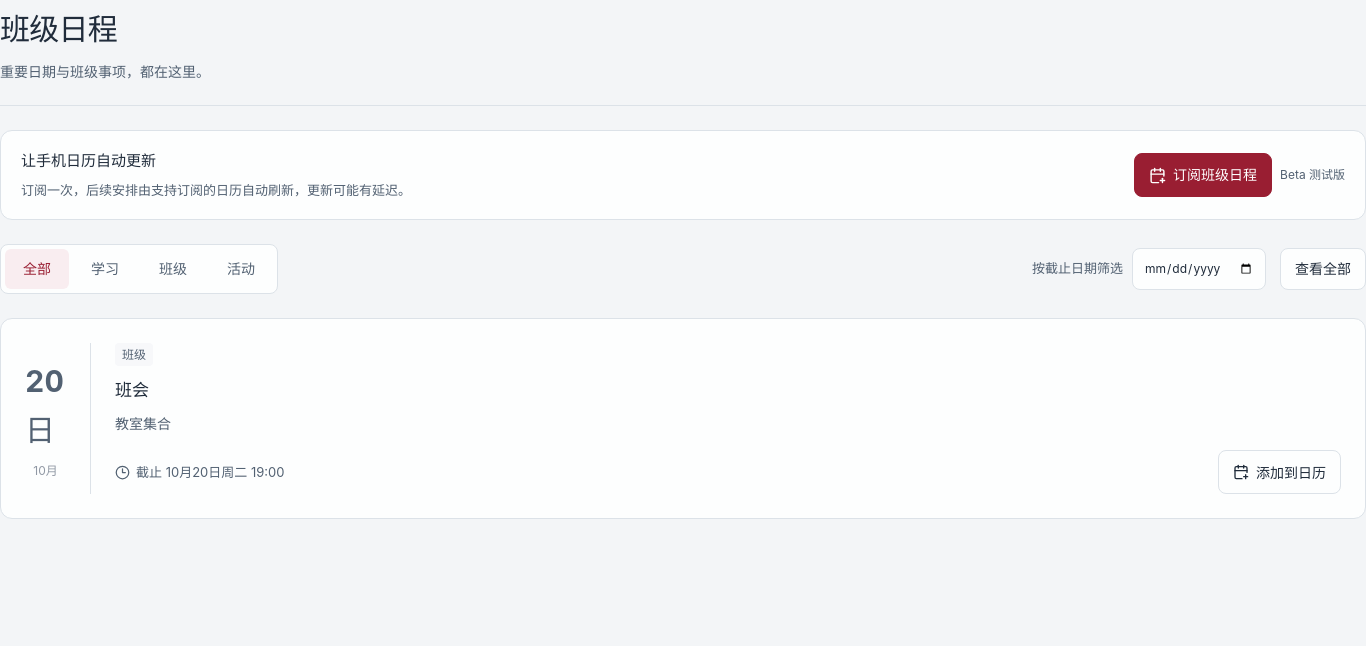
Test: does not offer blocked native launch from WeChat or HarmonyOS and explains browser handoff
The image size is (1366, 646).
Click the button "添加到日历" at (1280, 472), box x1=1218 y1=450 x2=1341 y2=494
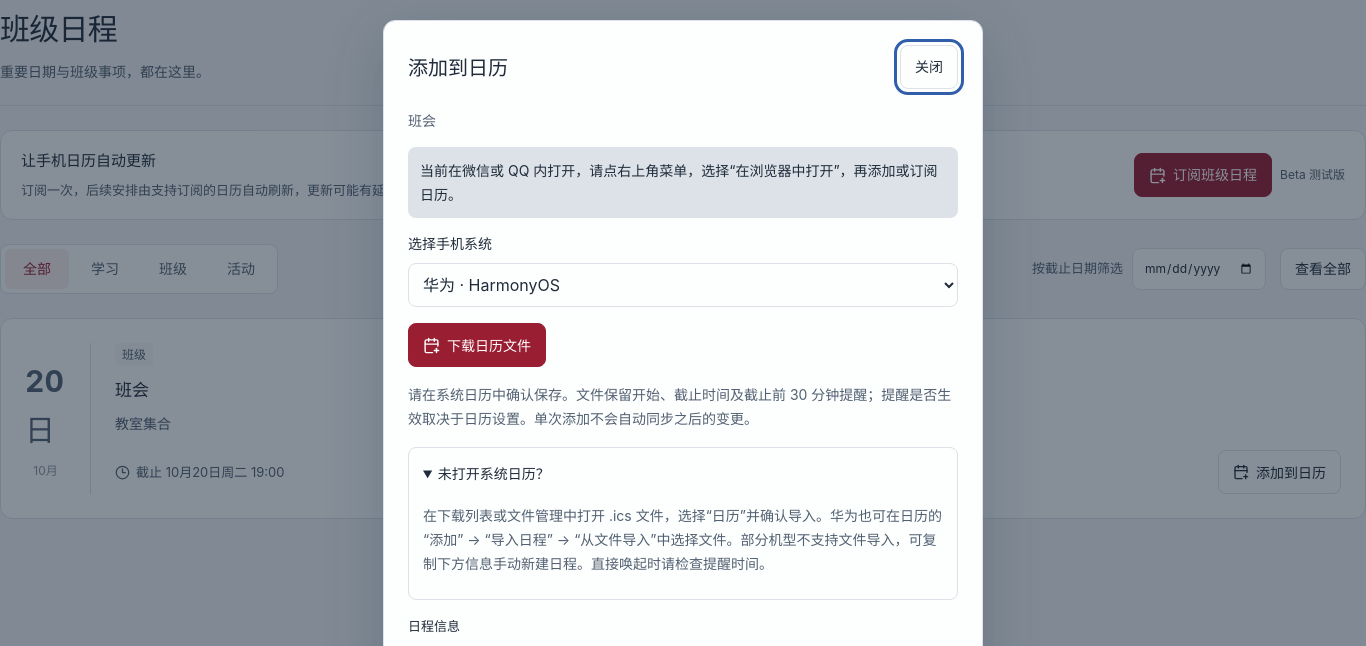
Expected: the text "当前在微信或 QQ 内打开，请点右上角菜单，选择“在浏览器中打开”，再添加或订阅日历。" is shown, x1=408 y1=147 x2=958 y2=218
Expected: the link "下载日历文件" is shown, x1=408 y1=324 x2=546 y2=368
